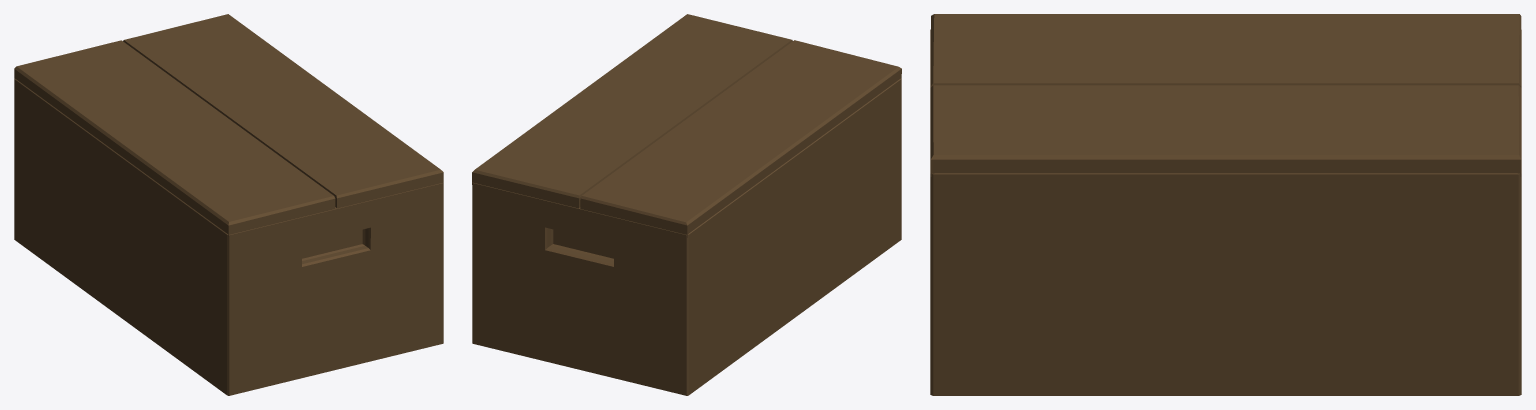
The model's file is Package.fbx.
3 views of the same model, side by side, from view 1: azimuth 30°, elevation 25°; view 2: azimuth 150°, elevation 25°; view 3: azimuth 270°, elevation 25° (orthographic). The views are drawn at different scales.
Parts seen in each view (by area): view 1: Cube.007, Cube.009, Cube.008; view 2: Cube.007, Cube.009, Cube.008; view 3: Cube.007, Cube.008, Cube.009.
Part boxes in pixels (box(x1,y1,x2,y2)): Cube.007: box(14, 78, 443, 395); Cube.009: box(14, 40, 335, 236); Cube.008: box(123, 14, 443, 208); Cube.007: box(472, 78, 901, 395); Cube.009: box(580, 40, 901, 237); Cube.008: box(472, 14, 792, 208); Cube.007: box(930, 29, 1521, 395); Cube.008: box(930, 85, 1521, 176); Cube.009: box(931, 14, 1521, 87).
Bounding box in the file's own units: 200 × 154 × 344.
